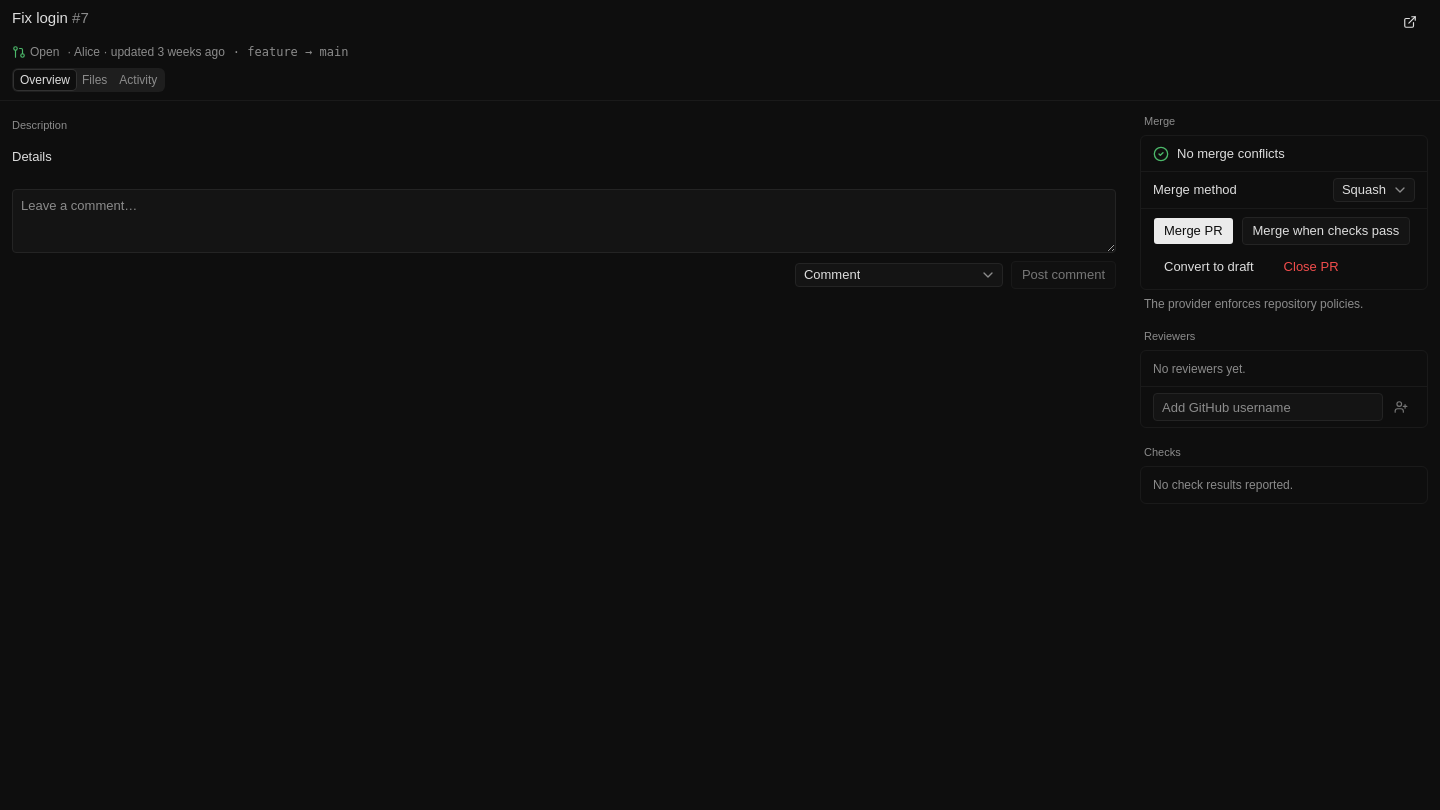
Test: failed writes retain feedback and do not retry automatically
In the text box named "Review feedback": (564, 221) [12, 189, 1116, 253], type "Keep my feedback"
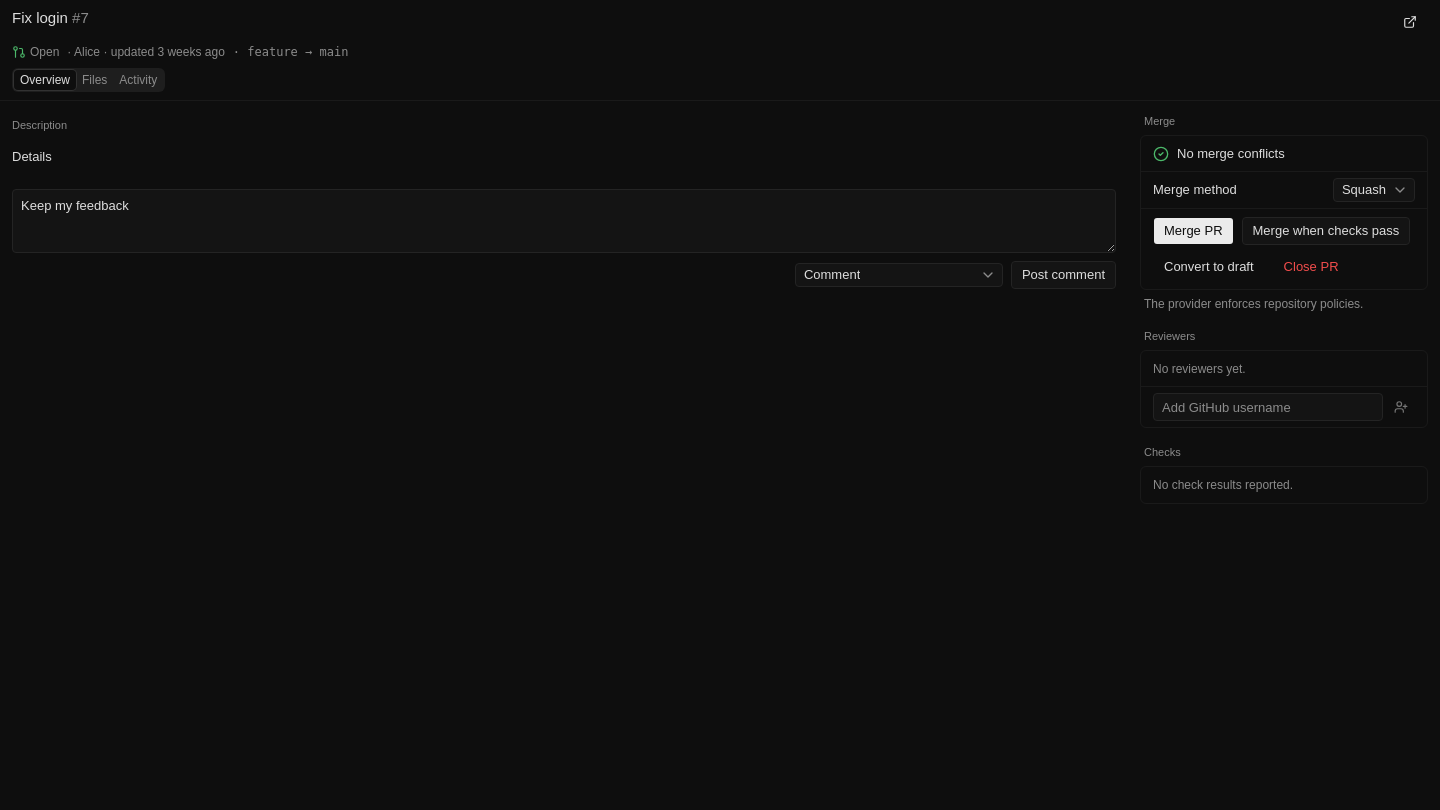
Click the button "Post comment": click(1063, 275) [1011, 261, 1116, 289]
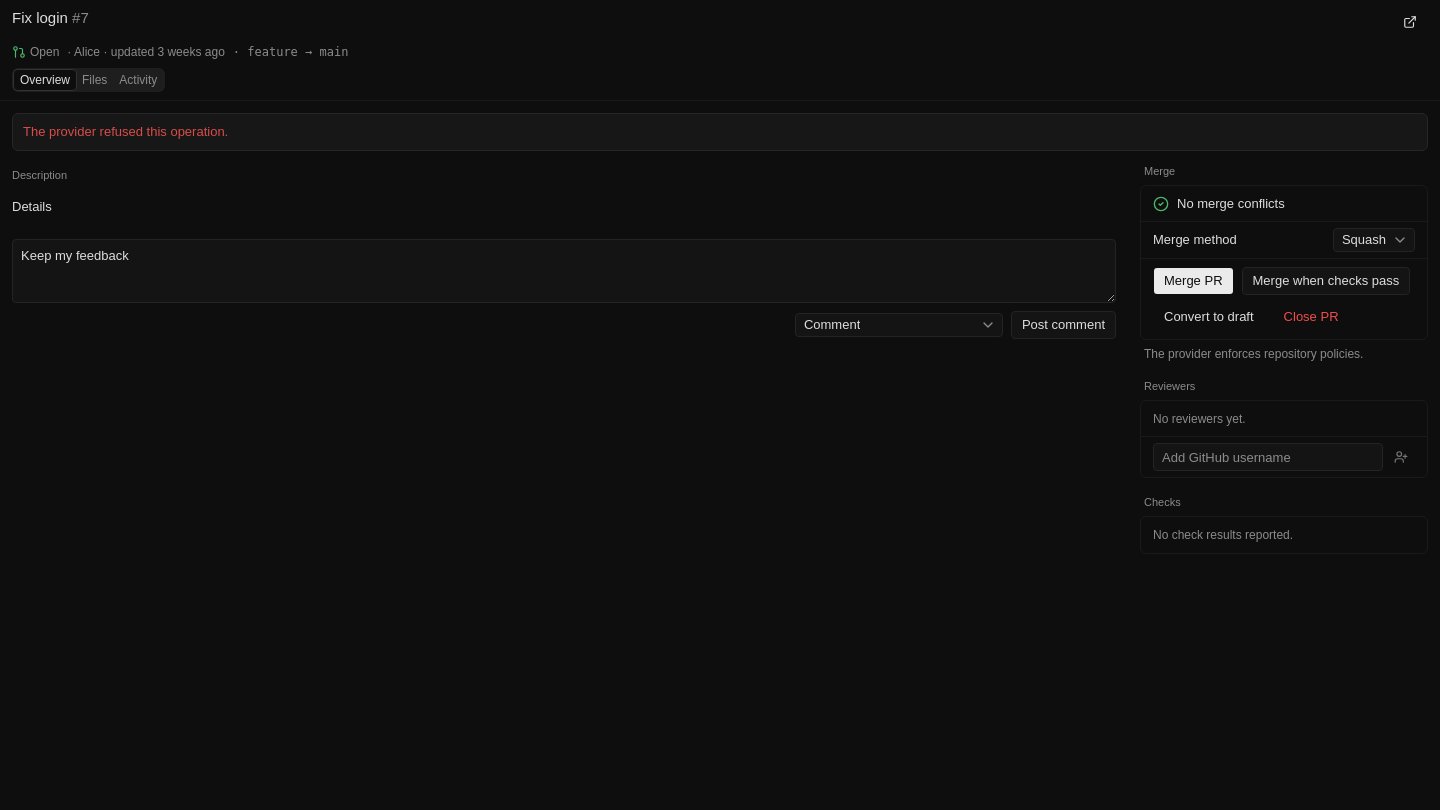
Expected: the text "The provider refused this operation." is shown, [23, 124, 228, 139]
